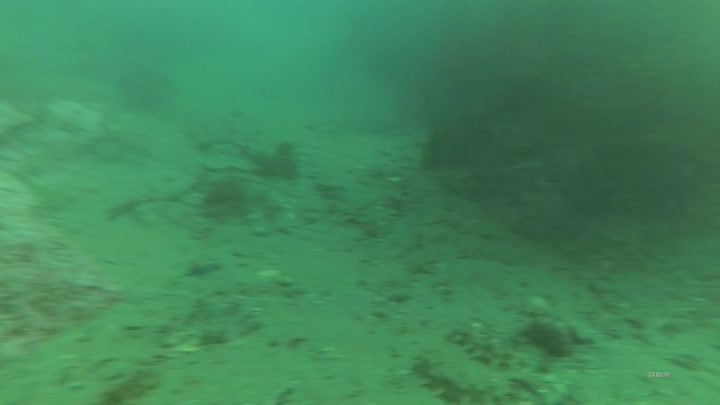holothurian: (414, 355, 505, 405), (446, 328, 526, 370)
starfish: (185, 253, 222, 279)
